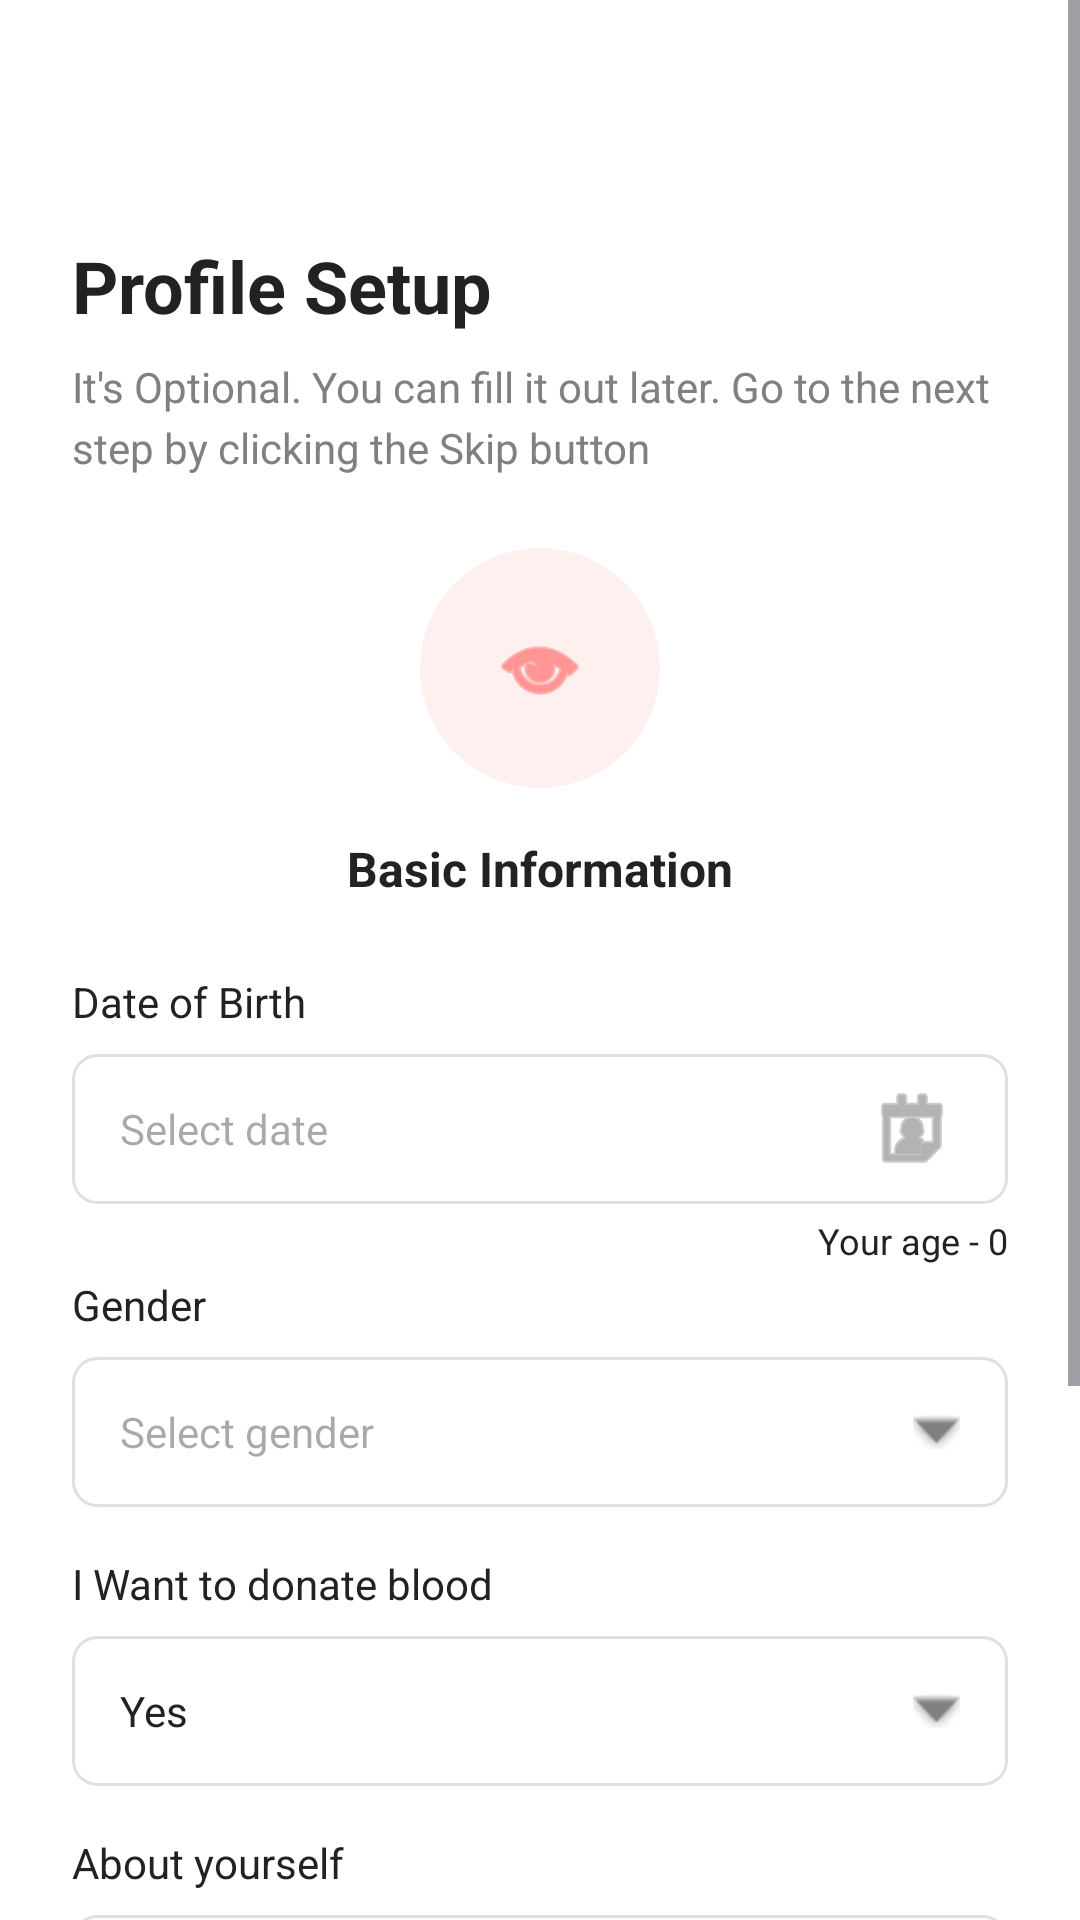

Icons on this 1080px x 1920px Android screen, each with its box as (x1, y1, x2, y2):
view: (501, 646, 579, 695)
